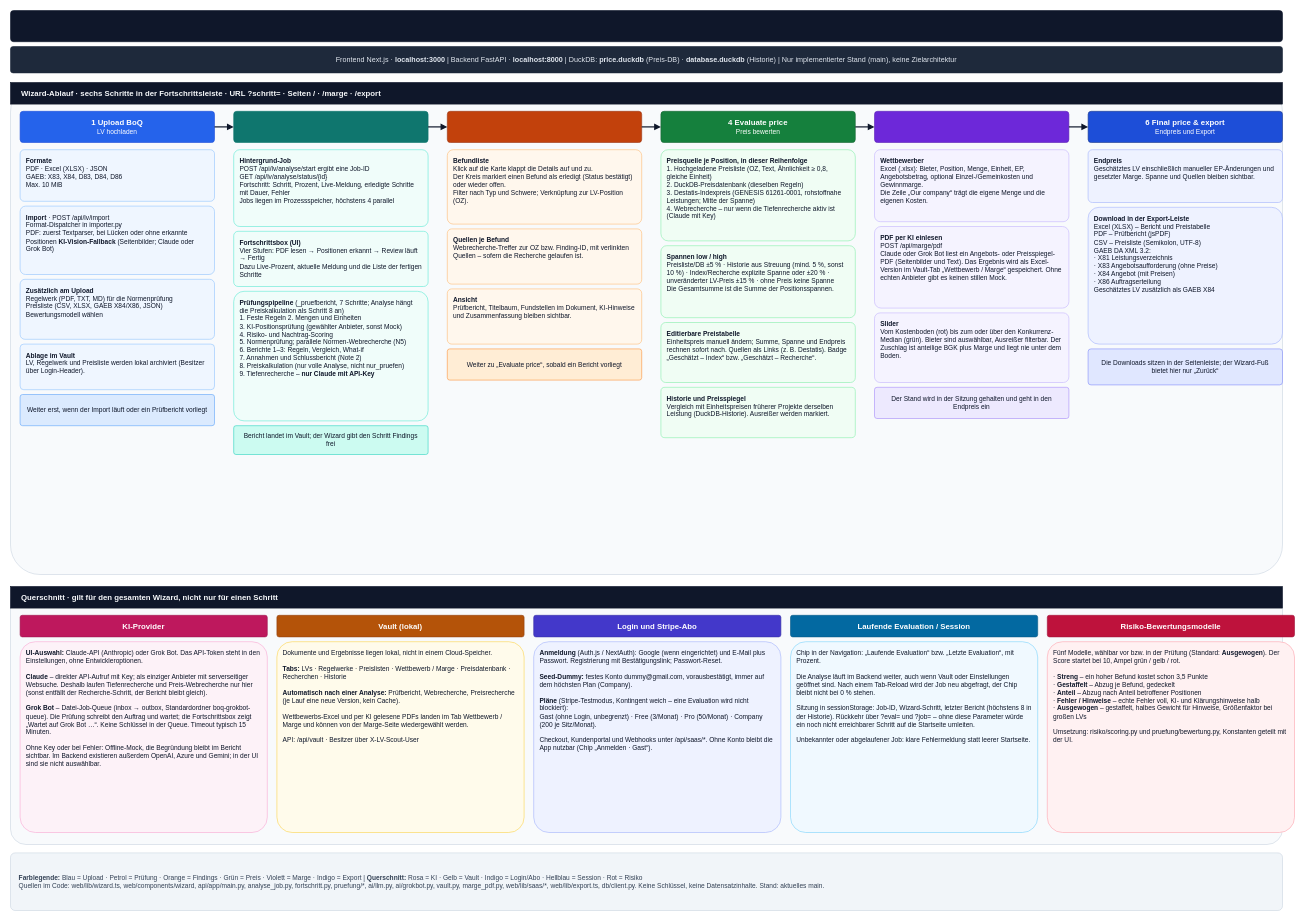
Some shapes in this 1305 by 921 pixel diagram are drawn without their labels. Here are the shapes that lost their labels. From the top down, the centre of each, then its label:
(646,26): LV Scout – Aktueller App-Ablauf
(330,126): 2 Review Prüfung
(544,126): 3 Resolve findings Befunde klären
(971,126): 5 Set margin Marge setzen
